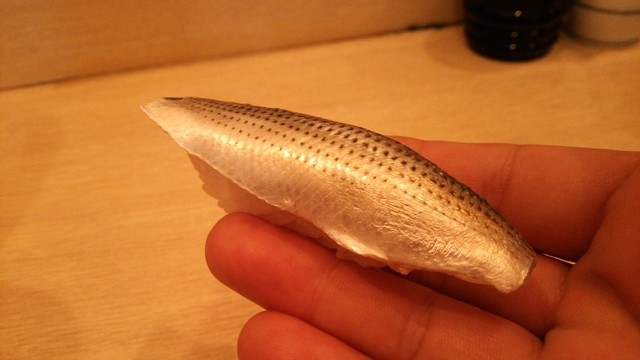spotted-shad: (139, 93, 542, 304)
